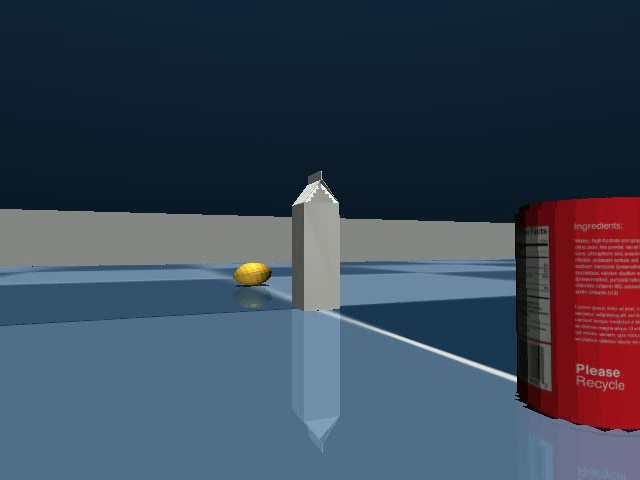can: (507, 184, 640, 447)
lemon: (228, 257, 277, 291)
milk: (286, 164, 346, 316)
